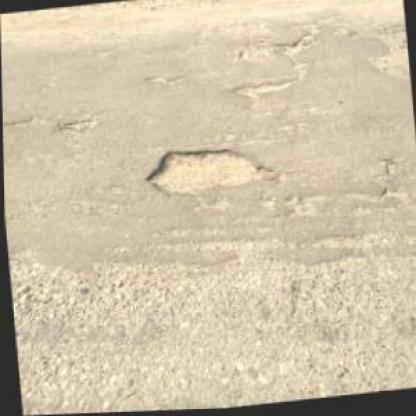pothole: (140, 138, 277, 202), (269, 33, 320, 60), (230, 80, 302, 97)
